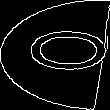O_E: (4, 31, 106, 79)
